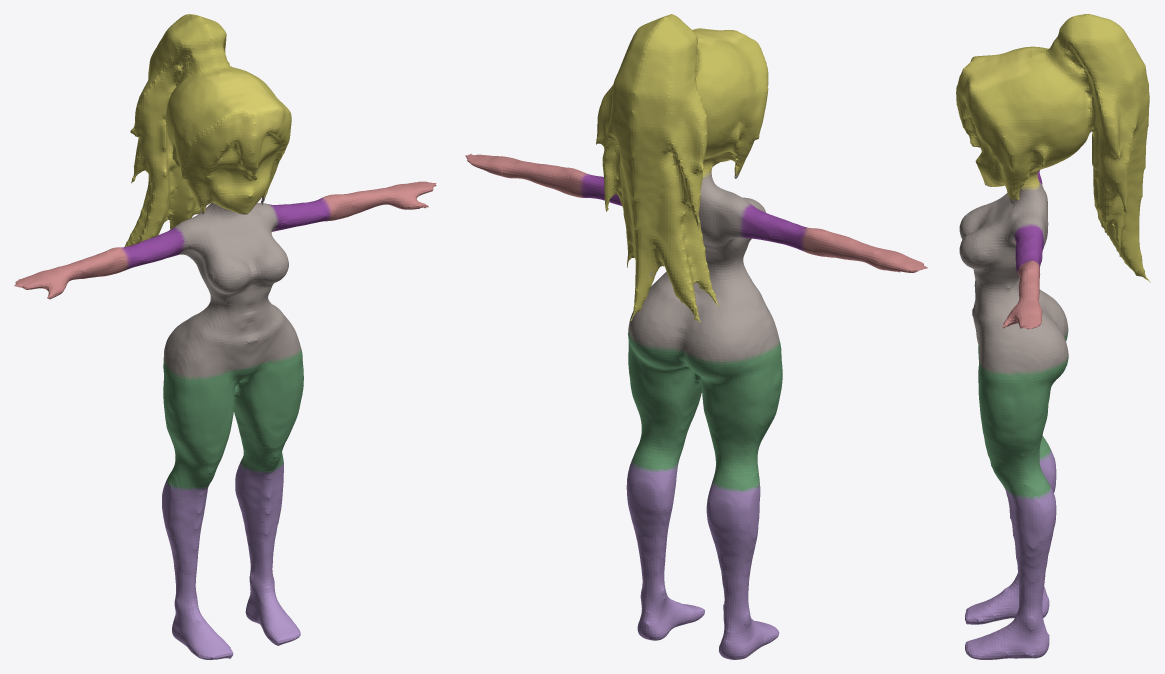
The model's file is character_segmented_colored_improved.glb.
3 renders of one model, left to right at view 1: azimuth 30°, elevation 25°; view 2: azimuth 150°, elevation 25°; view 3: azimuth 270°, elevation 25°, orthographic. The views are drawn at different scales.
Visible parts, largest first — view 1: world; view 2: world; view 3: world.
Boxes of the visible parts, x1,y1,x2,y2 form: world: [14, 14, 436, 659]; world: [465, 14, 927, 659]; world: [956, 14, 1150, 659].
Size of the model in its own units: 1.46 by 1.96 by 0.5555.
